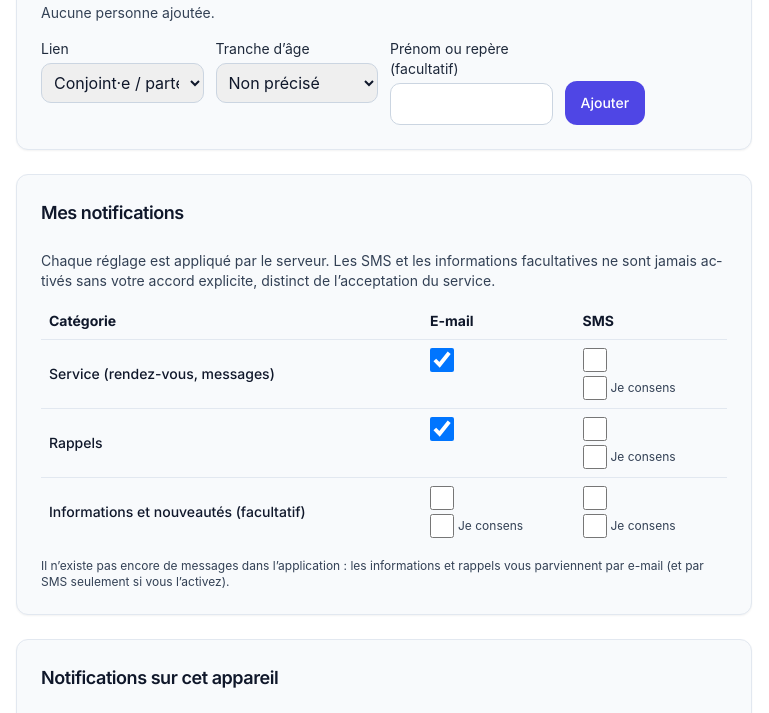
CompteProfil › enabling SMS without the separate consent is refused on screen and nothing is sent
(page scrolled)
Click the checkbox with test id "pref-sms-service" at (594, 360), box [582,348,606,372]
(page scrolled)
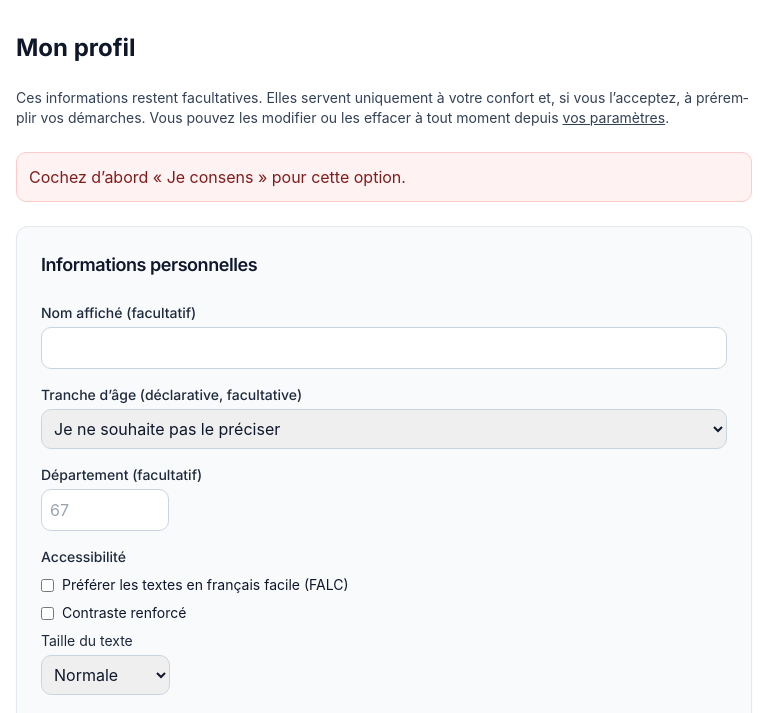
Check: the message with test id "profil-error" shows "Cochez d’abord", box [29,167,406,187]
